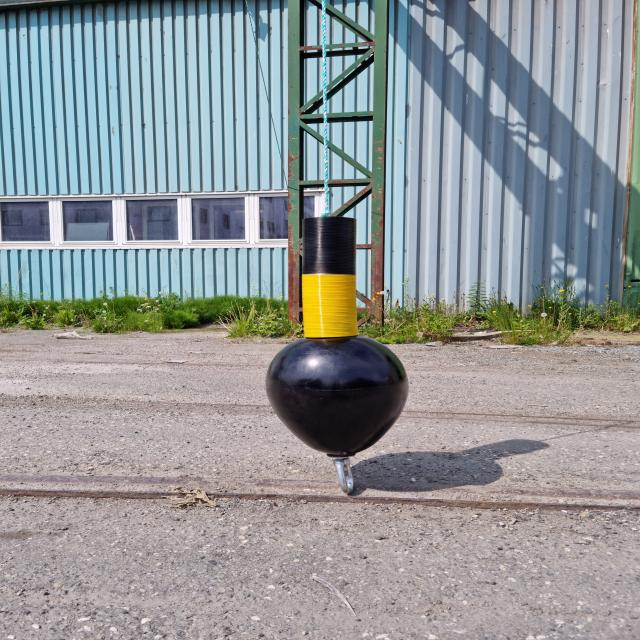east: (266, 217, 408, 454)
